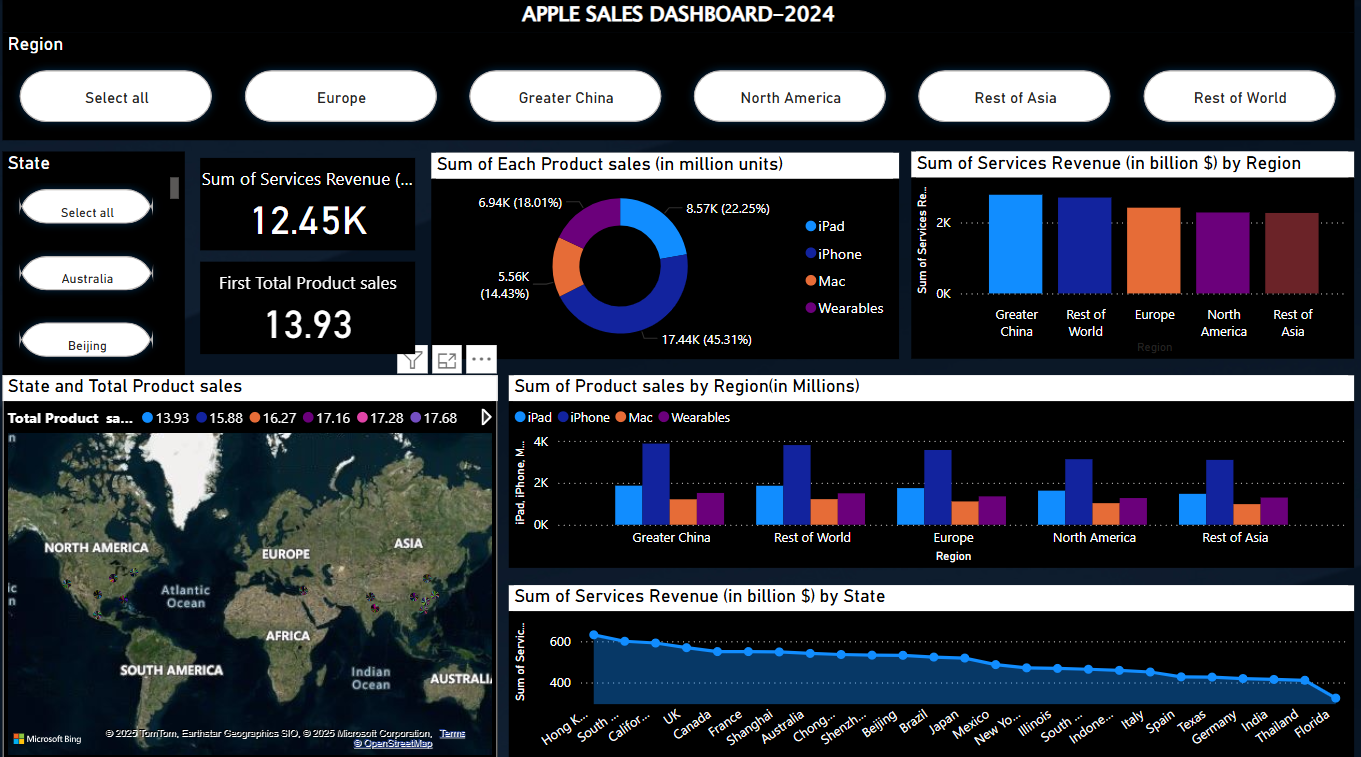

Layout of this report page (visuals, bound fields, positions):
{"tool":"powerbi","page":{"name":"Page 1","canvas":[1280,720],"ordinal":0},"visuals":[{"type":"textbox","title":"APPLE SALES DASHBOARD-2024","box":[11.1,0,1257.8,31.1],"z":0},{"type":"advancedSlicerVisual","fields":{"Values":["apple_sales_2024.Region"]},"box":[11.1,31.1,1257.8,100],"z":1000},{"type":"advancedSlicerVisual","fields":{"Values":["apple_sales_2024.State"]},"box":[11.6,141.9,169.8,208.1],"z":2000},{"type":"clusteredColumnChart","title":"Sum of Product sales by Region(in Millions)","fields":{"Category":["apple_sales_2024.Region"],"Y":["Sum(apple_sales_2024.iPad Sales (in million units))","Sum(apple_sales_2024.iPhone Sales (in million units))","Sum(apple_sales_2024.Mac Sales (in million units))","Sum(apple_sales_2024.Wearables (in million units))"]},"box":[482.6,350,786,179.1],"z":3000},{"type":"clusteredColumnChart","fields":{"Category":["apple_sales_2024.Region"],"Y":["Sum(apple_sales_2024.Services Revenue (in billion $))"]},"box":[857,141.9,411.6,193],"z":4000},{"type":"donutChart","title":"Sum of Each Product sales (in million units)","fields":{"Y":["Sum(apple_sales_2024.iPad Sales (in million units))","Sum(apple_sales_2024.iPhone Sales (in million units))","Sum(apple_sales_2024.Mac Sales (in million units))","Sum(apple_sales_2024.Wearables (in million units))"]},"box":[410.5,143,434.9,191.9],"z":5000},{"type":"map","fields":{"Category":["apple_sales_2024.State"],"Series":["apple_sales_2024.Total Product  sales"]},"box":[11.6,350,460.5,358.1],"z":6000},{"type":"stackedAreaChart","fields":{"Category":["apple_sales_2024.State"],"Y":["Sum(apple_sales_2024.Services Revenue (in billion $))"]},"box":[482.6,545.4,786,162.8],"z":7000},{"type":"cardVisual","fields":{"Data":["Sum(apple_sales_2024.Services Revenue (in billion $))"]},"box":[190.7,143,210.5,96.5],"z":8000},{"type":"cardVisual","fields":{"Data":["Min(apple_sales_2024.Total Product  sales)"]},"box":[190.7,239.5,210.5,96.5],"z":9000}]}

Visuals, with their boxes in screenshot pixels (x1, y1, x2, y2), scaled from the page's 1280x720 canvas onto the 1361x757 screenshot:
"APPLE SALES DASHBOARD-2024" textbox: pyautogui.locateOnScreen(12, 0, 1349, 33)
advancedSlicerVisual - apple_sales_2024.Region: pyautogui.locateOnScreen(12, 33, 1349, 138)
advancedSlicerVisual - apple_sales_2024.State: pyautogui.locateOnScreen(12, 149, 193, 368)
"Sum of Product sales by Region(in Millions)" clusteredColumnChart: pyautogui.locateOnScreen(513, 368, 1349, 556)
clusteredColumnChart - apple_sales_2024.Region x Sum(apple_sales_2024.Services Revenue (in billion $)): pyautogui.locateOnScreen(911, 149, 1349, 352)
"Sum of Each Product sales (in million units)" donutChart: pyautogui.locateOnScreen(436, 150, 899, 352)
map - apple_sales_2024.State x apple_sales_2024.Total Product  sales: pyautogui.locateOnScreen(12, 368, 502, 744)
stackedAreaChart - apple_sales_2024.State x Sum(apple_sales_2024.Services Revenue (in billion $)): pyautogui.locateOnScreen(513, 573, 1349, 745)
cardVisual - Sum(apple_sales_2024.Services Revenue (in billion $)): pyautogui.locateOnScreen(203, 150, 427, 252)
cardVisual - Min(apple_sales_2024.Total Product  sales): pyautogui.locateOnScreen(203, 252, 427, 353)
